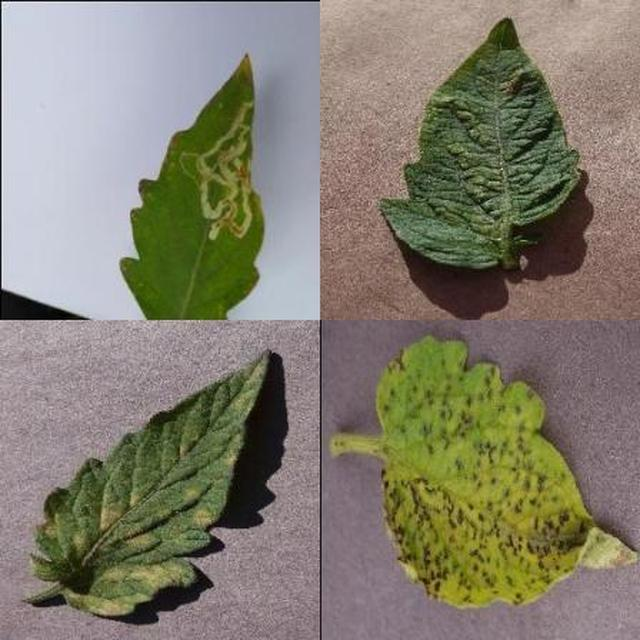Leaf Miner: (210, 204, 640, 640)
